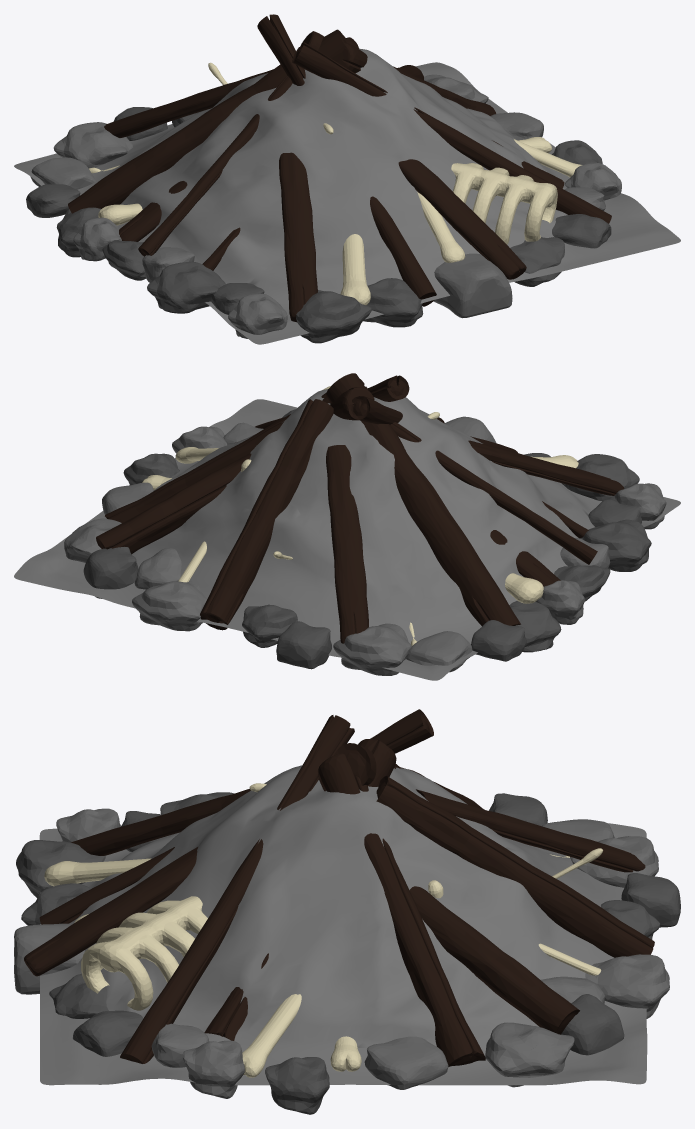
Rendered from BonfireObj.fbx.
3 renders of one model, top to bottom at view 1: azimuth 30°, elevation 25°; view 2: azimuth 150°, elevation 25°; view 3: azimuth 270°, elevation 25°, orthographic. The views are drawn at different scales.
Parts seen in each view (by area): view 1: Cylinder.026; view 2: Cylinder.026; view 3: Cylinder.026.
Boxes of the visible parts, bbox=[...] form: Cylinder.026: bbox=[14, 14, 680, 344]; Cylinder.026: bbox=[14, 373, 680, 680]; Cylinder.026: bbox=[14, 709, 680, 1114].
Size of the model in its own units: 229 by 89.64 by 220.
